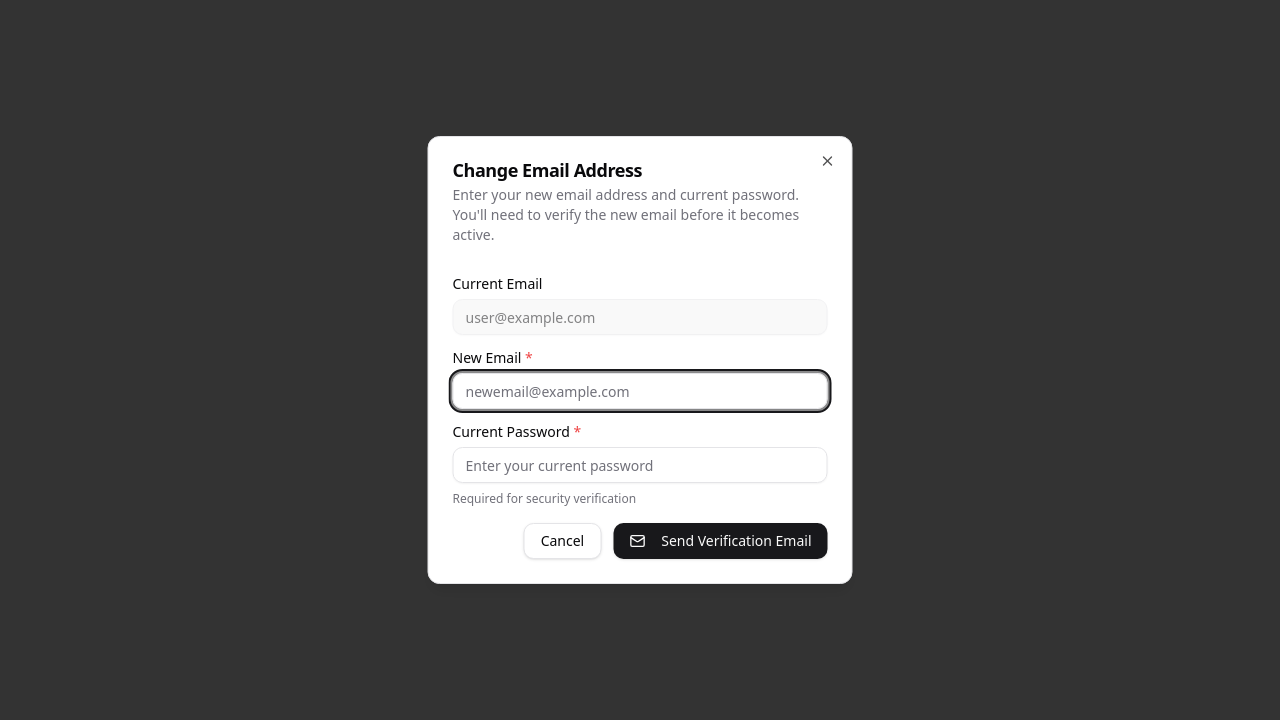
Test case: ChangeEmailDialog › validates email is different from current
Type "user@example.com" into the field labelled "New Email *". click: point(640, 391)
box: left=452, top=373, right=828, bottom=409
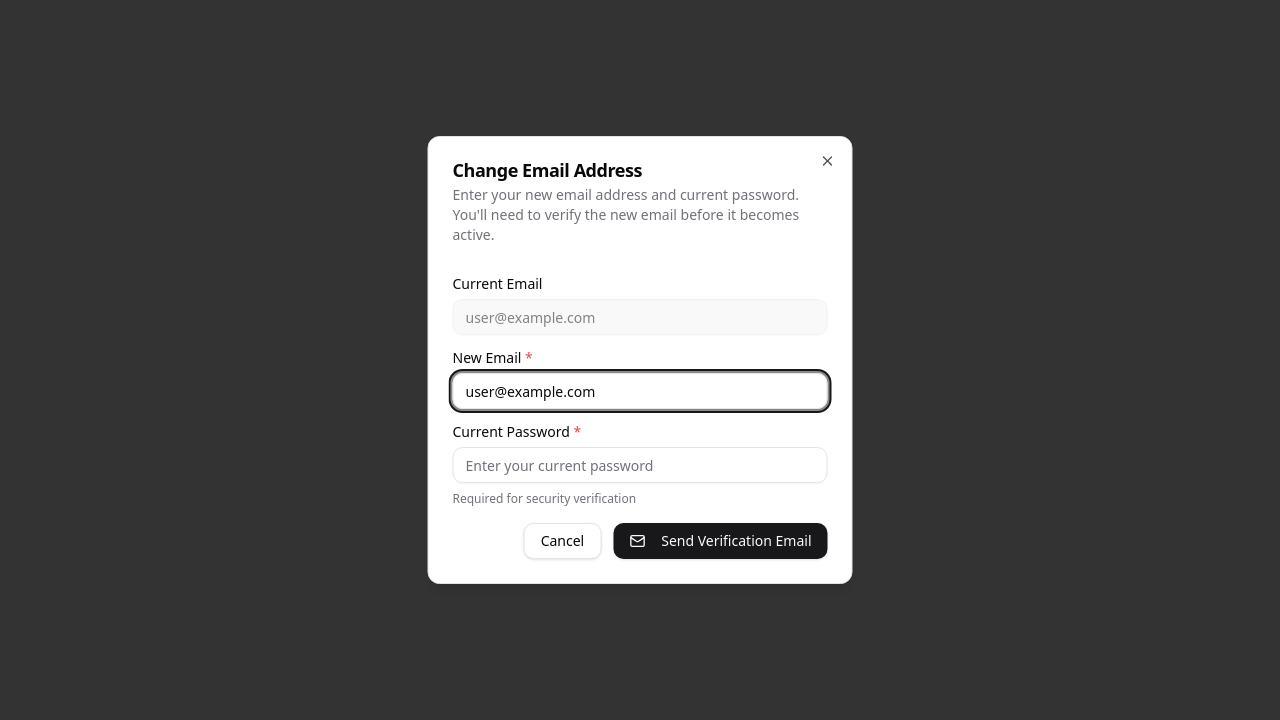
Type "password123" into the password field labelled "Current Password *". click: point(640, 465)
box: left=452, top=447, right=828, bottom=483
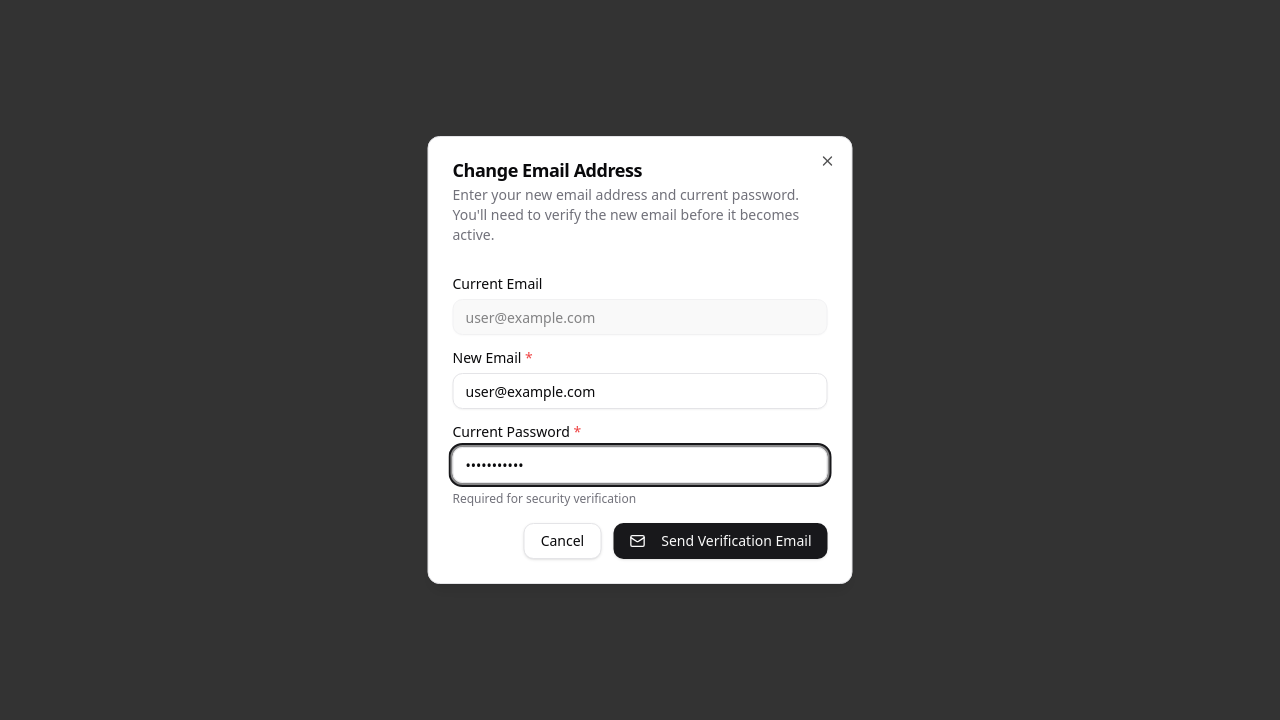
Click the button "Send Verification Email". click: point(720, 541)
box: left=613, top=523, right=828, bottom=559
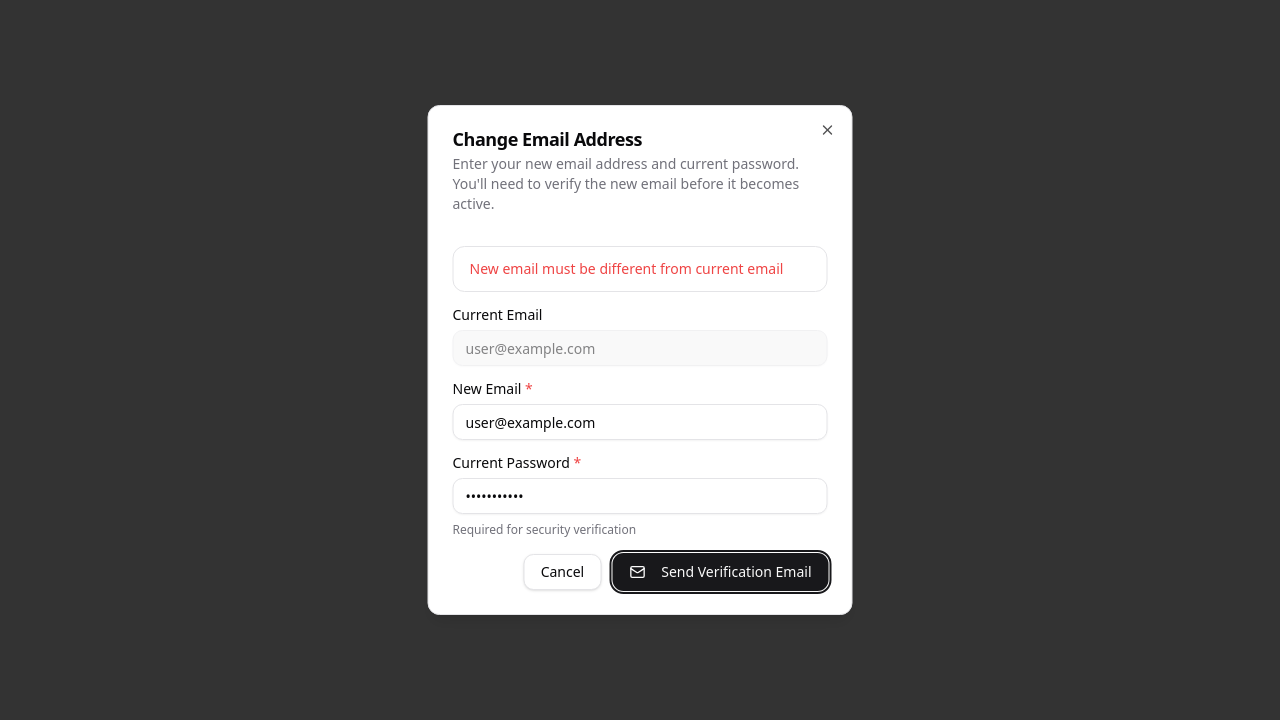
Result: the text "New email must be different from current email" is shown at left=470, top=259, right=810, bottom=279
